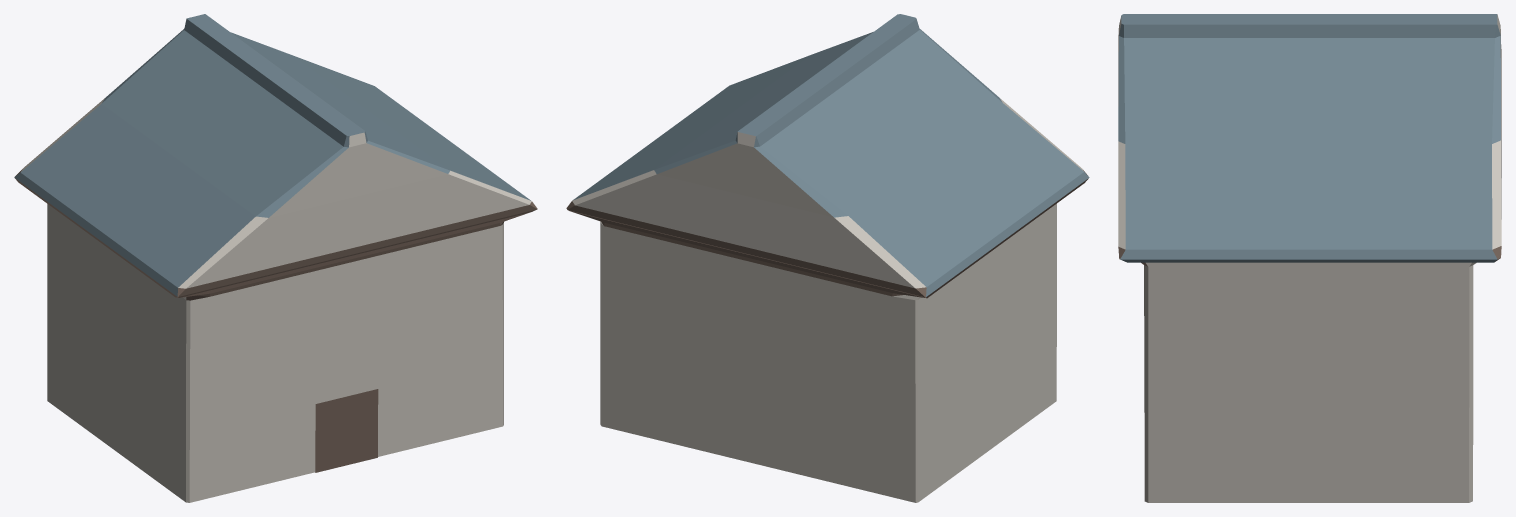
Rendered from loin.glb.
3 renders of one model, left to right at view 1: azimuth 30°, elevation 25°; view 2: azimuth 150°, elevation 25°; view 3: azimuth 270°, elevation 25°, orthographic. The views are drawn at different scales.
Visible parts, largest first — view 1: loin; view 2: loin; view 3: loin.
Boxes of the visible parts, x1,y1,x2,y2 form: loin: (14,14,537,502); loin: (566,14,1089,502); loin: (1118,14,1501,502).
Bounding box in the file's own units: 0.9507 × 0.851 × 0.7515.
